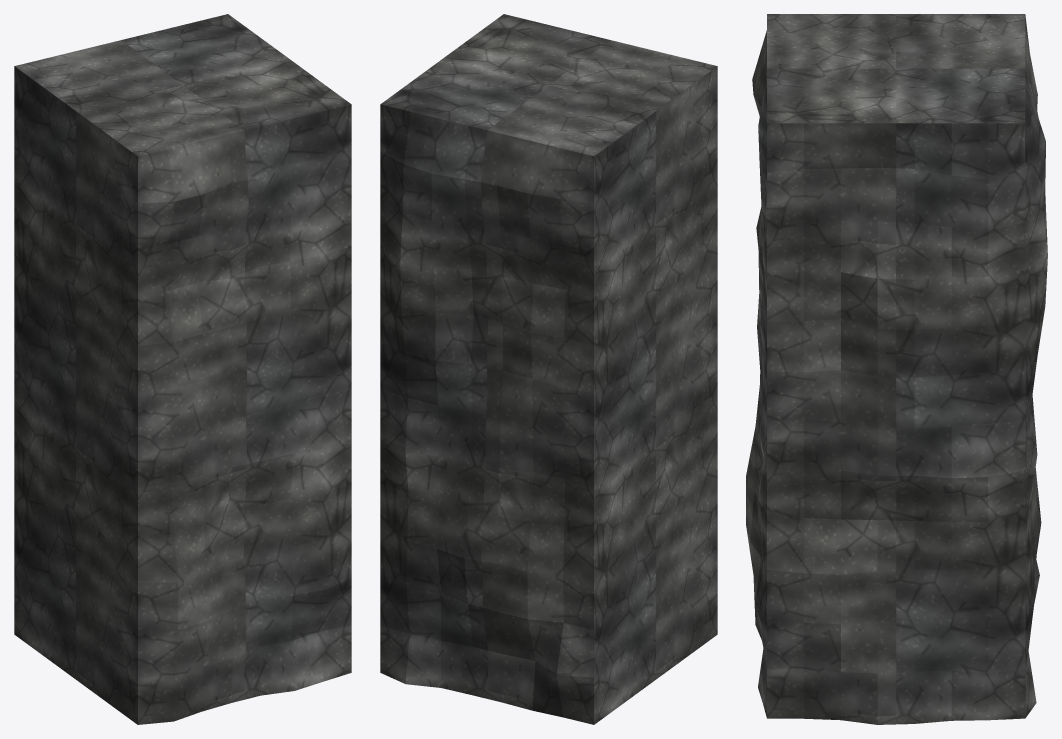
File: kit_wall_cave_pier.glb
The picture shows the model from 3 angles, left to right: view 1: azimuth 30°, elevation 25°; view 2: azimuth 150°, elevation 25°; view 3: azimuth 270°, elevation 25°; orthographic projection. The views are drawn at different scales.
Visible parts, largest first — view 1: kit_wall_cave_pier; view 2: kit_wall_cave_pier; view 3: kit_wall_cave_pier.
Boxes of the visible parts, x1,y1,x2,y2 form: kit_wall_cave_pier: (14,14,351,724); kit_wall_cave_pier: (380,14,717,724); kit_wall_cave_pier: (746,14,1047,724).
Size of the model in its own units: 3.02 by 7.12 by 3.27.
1 material, 1 textured.
